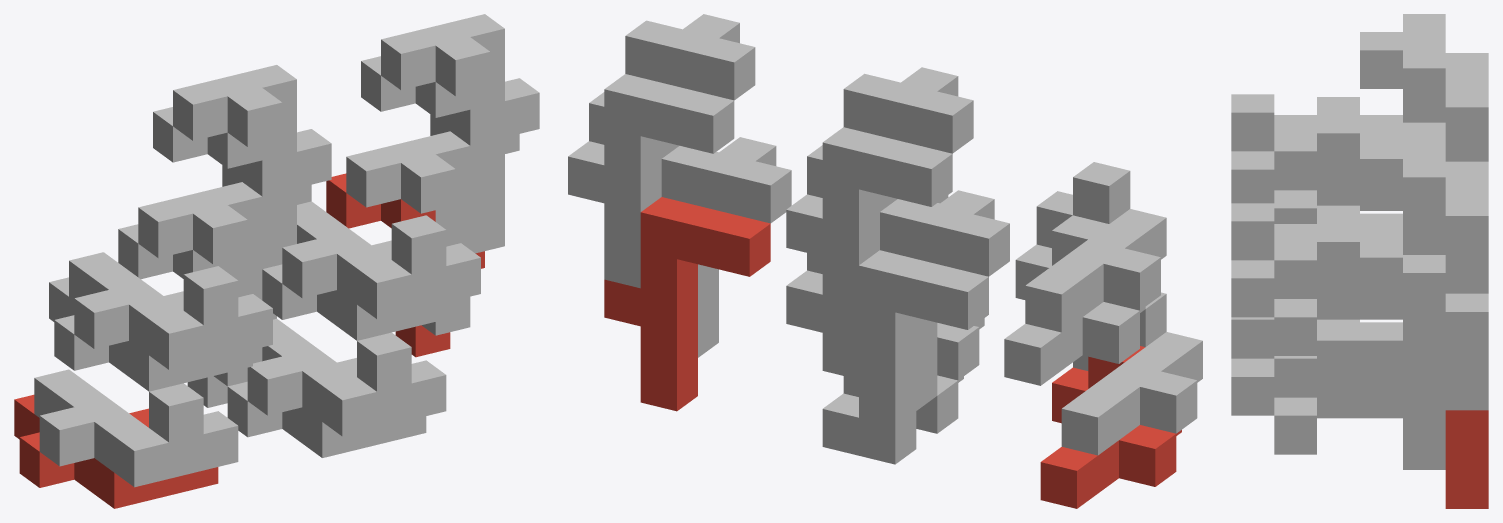
Rendered from tiling.obj.
3 views of the same model, side by side, from view 1: azimuth 30°, elevation 25°; view 2: azimuth 150°, elevation 25°; view 3: azimuth 270°, elevation 25° (orthographic). The views are drawn at different scales.
Visible parts, largest first — view 1: copy_1_domain_2, copy_1_domain_4, copy_1_domain_8, copy_2_domain_8, copy_1_domain_6, copy_2_domain_4, copy_2_domain_6, copy_2_domain_2, copy_1_domain_1, copy_1_domain_3, copy_1_domain_5, copy_1_domain_7 (+4 smaller); view 2: copy_2_domain_5, copy_2_domain_1, copy_2_domain_7, copy_2_domain_3, copy_1_domain_4, copy_1_domain_2, copy_2_domain_2, copy_2_domain_6, copy_1_domain_3, copy_2_domain_8, copy_2_domain_4, copy_1_domain_1 (+3 smaller); view 3: copy_2_domain_8, copy_2_domain_7, copy_1_domain_8, copy_1_domain_4, copy_1_domain_6, copy_1_domain_5, copy_1_domain_7, copy_2_domain_4, copy_2_domain_6, copy_1_domain_3, copy_2_domain_3, copy_2_domain_5 (+2 smaller).
Part boxes in pixels (box(x1,y1,x2,y2)): copy_1_domain_2: box(34, 369, 238, 487); copy_1_domain_4: box(69, 252, 272, 369); copy_1_domain_8: box(282, 201, 480, 319); copy_2_domain_8: box(381, 14, 539, 218); copy_1_domain_6: box(247, 318, 446, 436); copy_2_domain_4: box(173, 65, 331, 268); copy_2_domain_6: box(346, 131, 504, 335); copy_2_domain_2: box(138, 182, 262, 386); copy_1_domain_1: box(14, 394, 218, 508); copy_1_domain_3: box(49, 277, 252, 391); copy_1_domain_5: box(227, 358, 426, 457); copy_1_domain_7: box(262, 240, 460, 340); copy_2_domain_5: box(604, 197, 770, 411); copy_2_domain_1: box(822, 250, 988, 464); copy_2_domain_7: box(568, 74, 734, 288); copy_2_domain_3: box(786, 127, 952, 341); copy_1_domain_4: box(1025, 162, 1166, 332); copy_1_domain_2: box(1061, 292, 1202, 455); copy_2_domain_2: box(880, 190, 1009, 410); copy_2_domain_6: box(661, 137, 791, 357); copy_1_domain_3: box(1004, 215, 1145, 385); copy_2_domain_8: box(589, 14, 755, 158); copy_2_domain_4: box(807, 67, 973, 211); copy_1_domain_1: box(1040, 346, 1181, 508); copy_2_domain_8: box(1360, 122, 1445, 371); copy_2_domain_7: box(1445, 161, 1488, 410); copy_1_domain_8: box(1231, 203, 1402, 317); copy_1_domain_4: box(1231, 94, 1402, 203); copy_1_domain_6: box(1231, 317, 1402, 415); copy_1_domain_5: box(1274, 356, 1402, 454); copy_1_domain_7: box(1274, 242, 1402, 355); copy_2_domain_4: box(1360, 14, 1445, 122); copy_2_domain_6: box(1360, 239, 1445, 469); copy_1_domain_3: box(1274, 133, 1402, 223); copy_2_domain_3: box(1445, 53, 1488, 161); copy_2_domain_5: box(1445, 410, 1488, 508).
Size of the model in its own units: 15 by 9 by 6.
